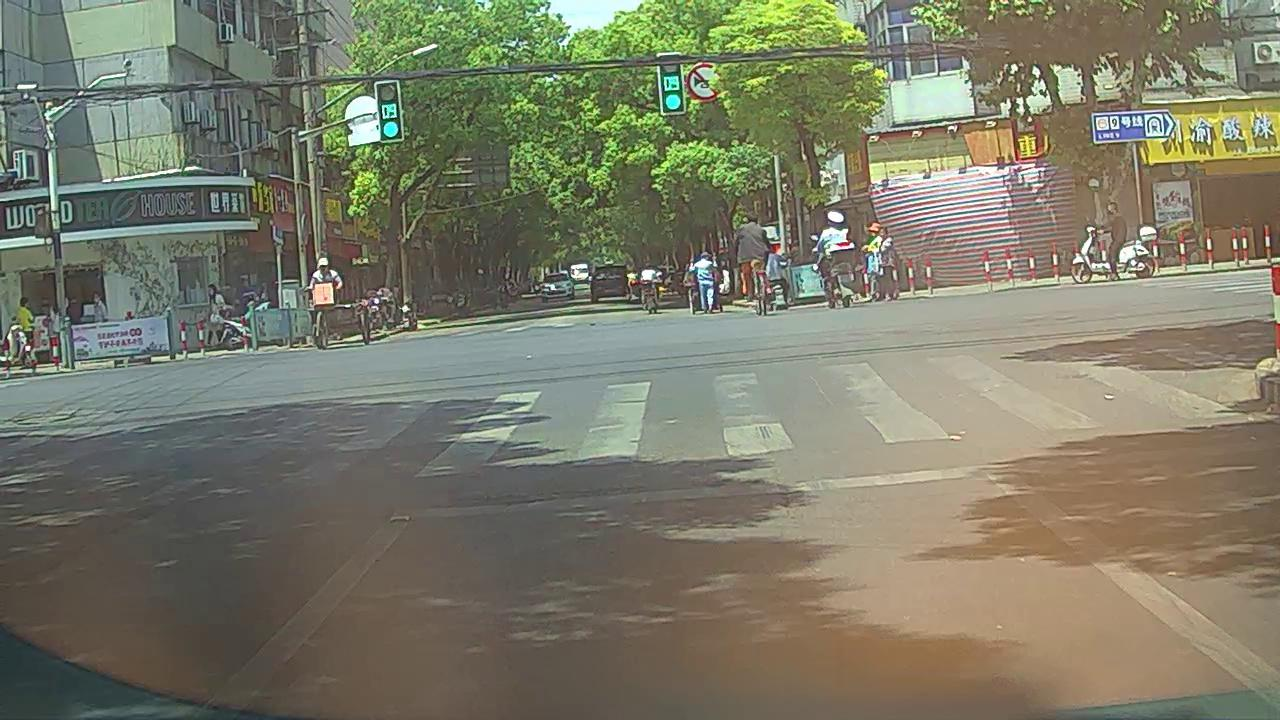traffic_light: (657, 55, 685, 111), (378, 84, 402, 139)
